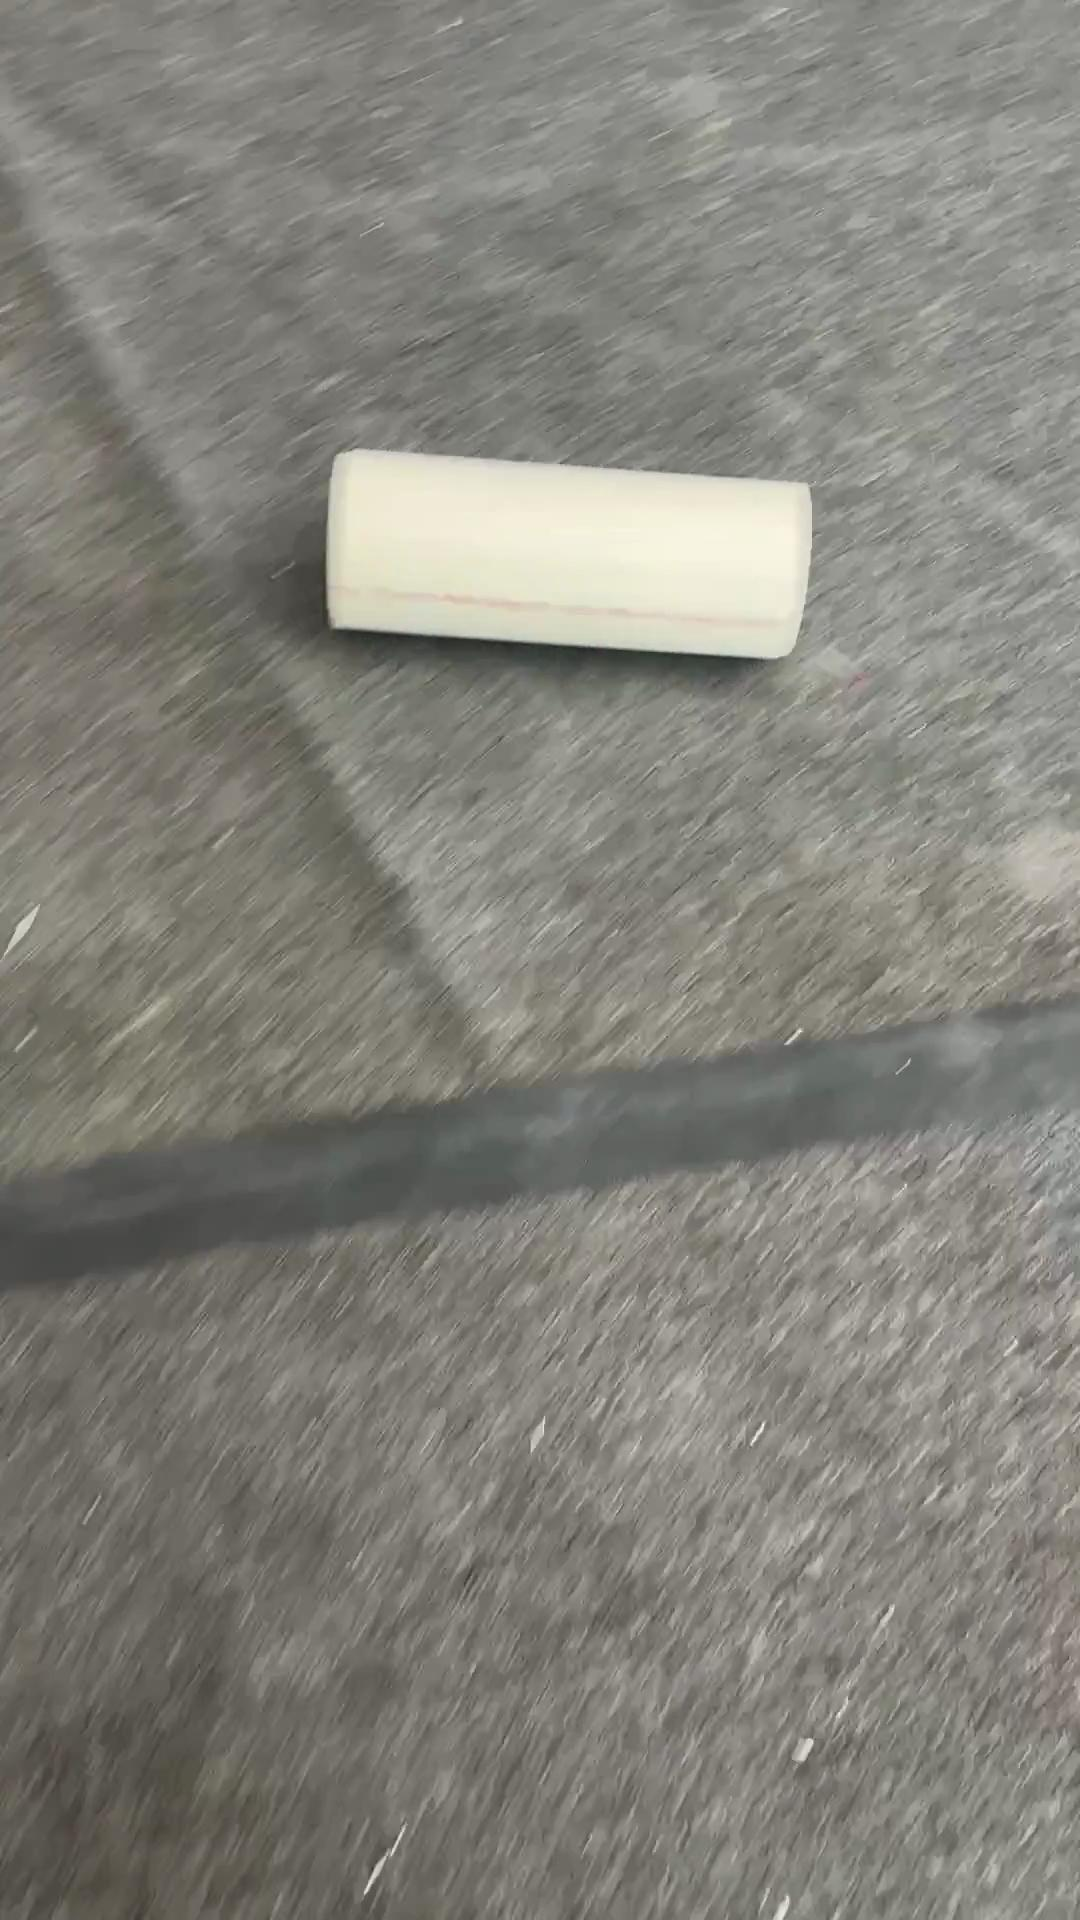CORAL: (322, 443, 814, 662)
